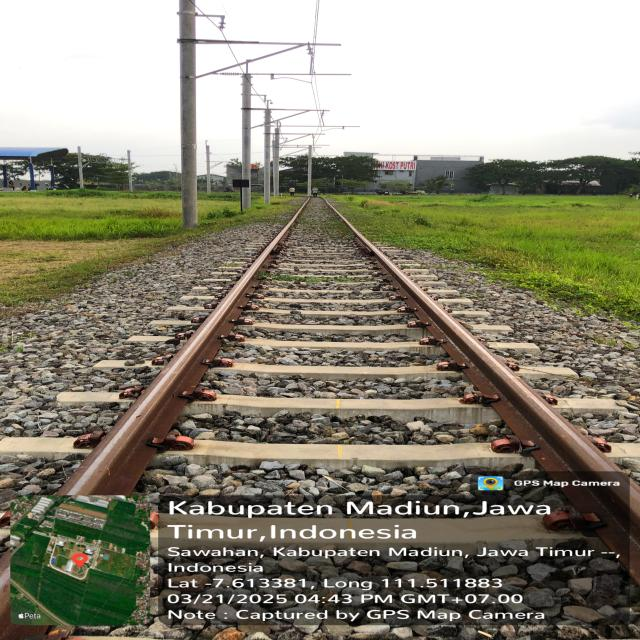rail-detection: (341, 216, 640, 583), (59, 211, 299, 495)
